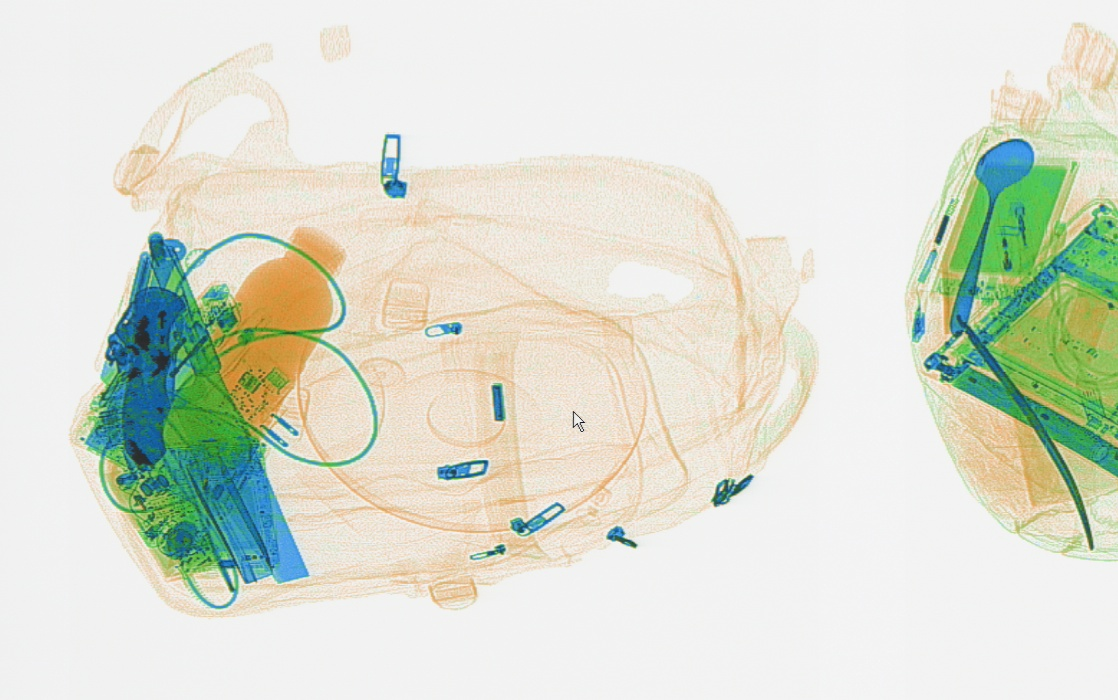knife: (107, 283, 188, 467)
lighter: (986, 191, 1037, 316)
